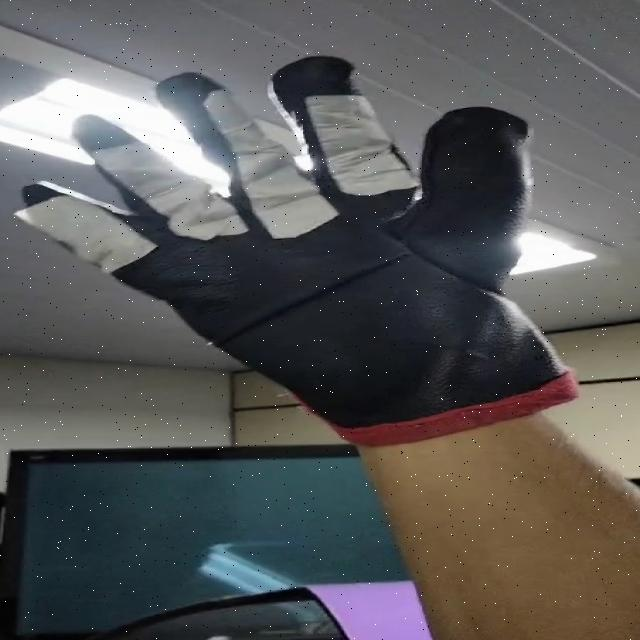Gloves: (24, 57, 587, 446)
